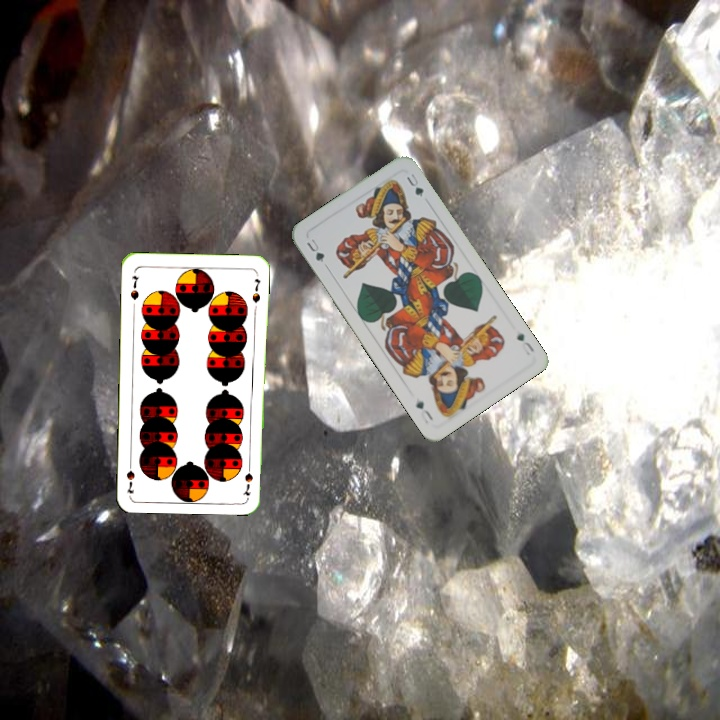GU: (302, 234, 327, 265), (513, 329, 537, 354)
S7: (240, 458, 255, 498), (126, 272, 142, 302)
